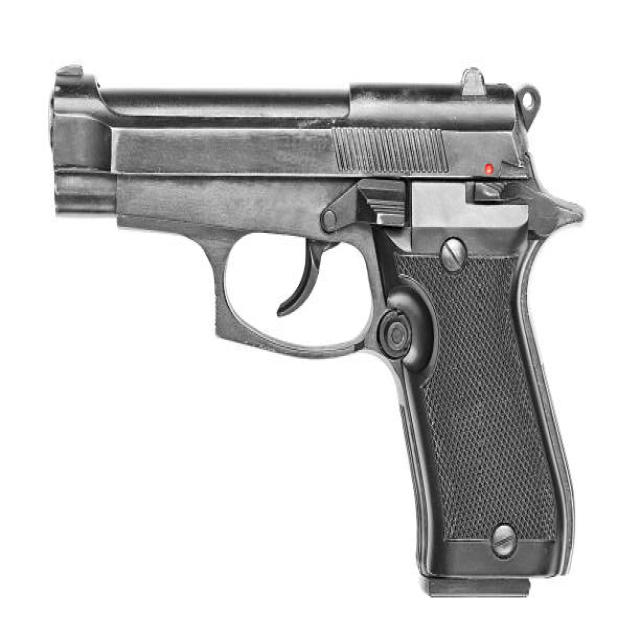pistol: (41, 51, 590, 610)
